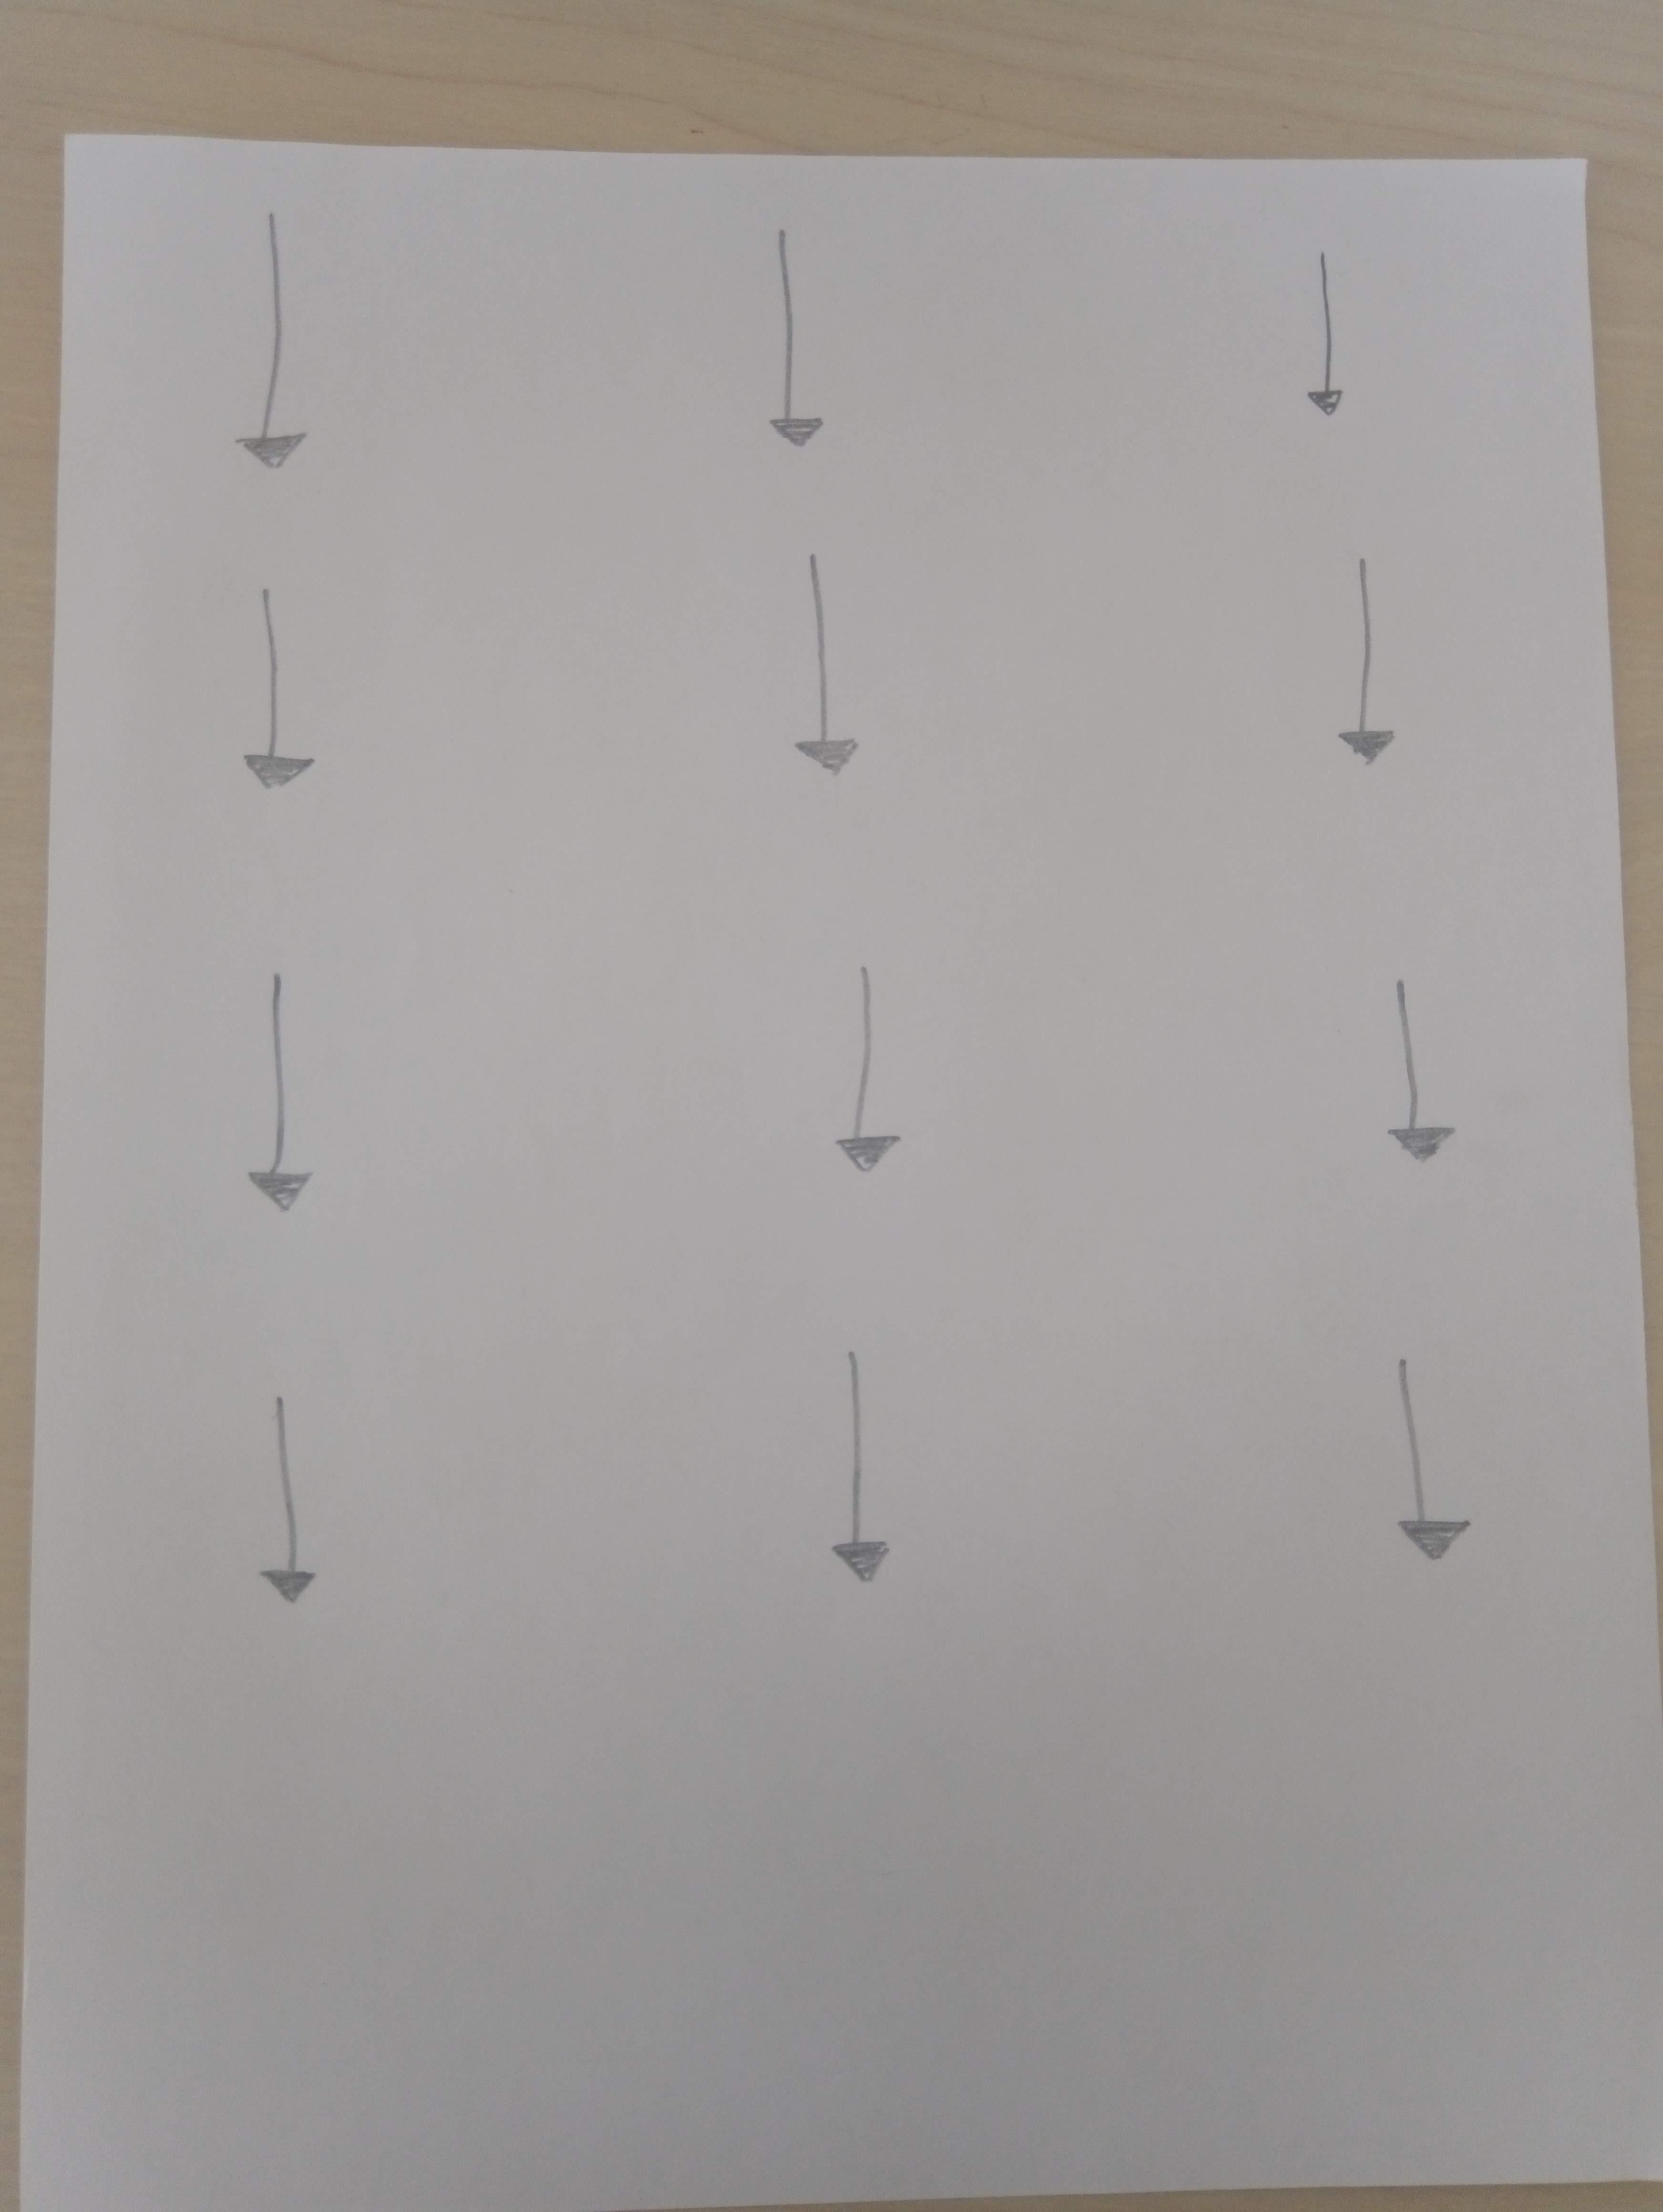arrow_line_down: (781, 548, 898, 805), (218, 978, 335, 1231), (1308, 534, 1432, 772), (1359, 974, 1492, 1191), (225, 218, 314, 489), (1370, 1355, 1473, 1585), (241, 1395, 351, 1601), (225, 585, 332, 791), (739, 229, 838, 449), (809, 955, 905, 1182), (825, 1341, 901, 1597), (1293, 248, 1359, 457)
